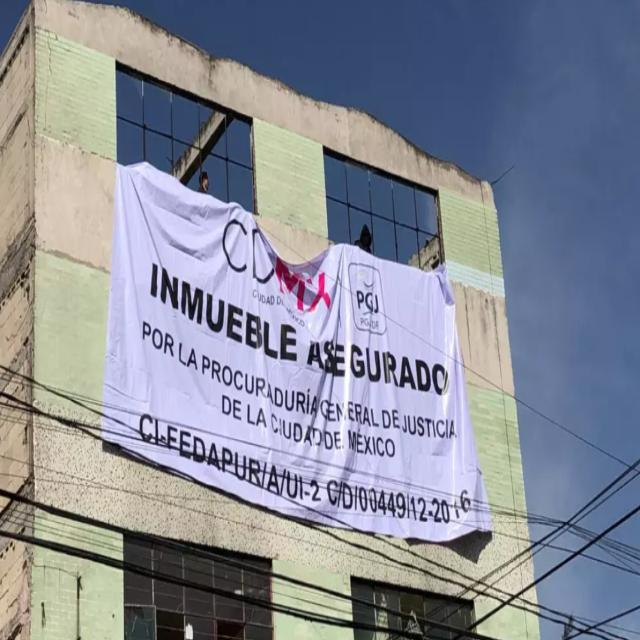stamps: (101, 163, 491, 542)
